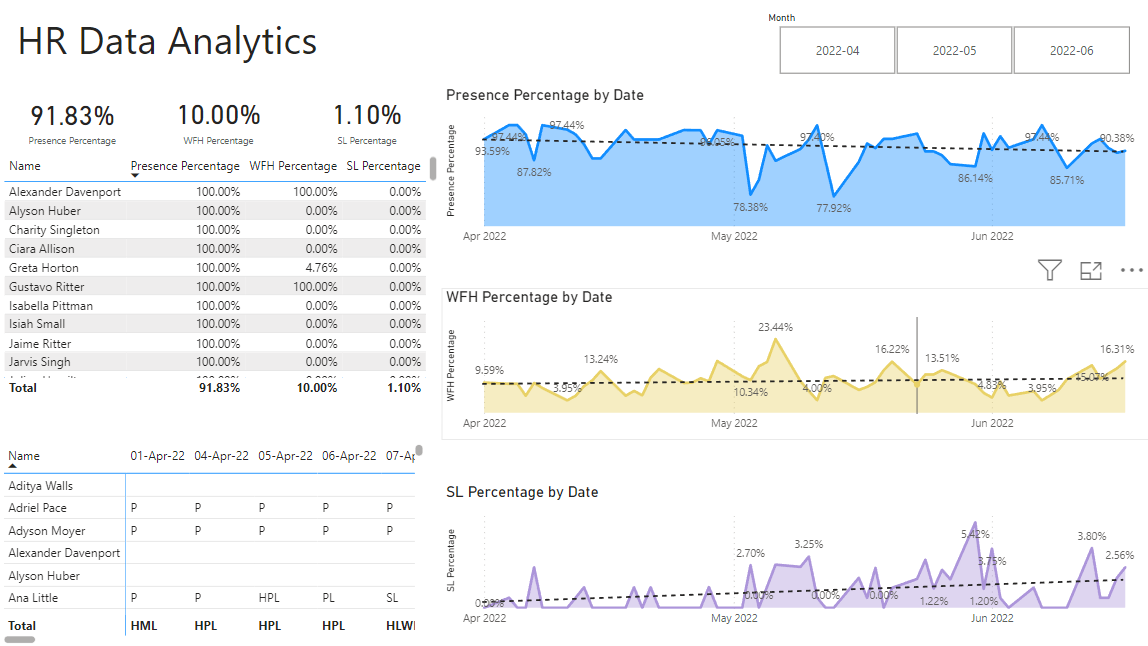

The dashboard page shown, as its layout file describes it:
{"tool":"powerbi","page":{"name":"Page 1","canvas":[1280,720],"ordinal":0},"visuals":[{"type":"card","fields":{"Values":["Measure Table.Presence Percentage"]},"box":[0,95,161.7,75],"z":0},{"type":"card","fields":{"Values":["Measure Table.WFH Percentage"]},"box":[161.7,95,163.3,73.3],"z":1000},{"type":"card","fields":{"Values":["Measure Table.SL Percentage"]},"box":[325,95,166.7,73.3],"z":2000},{"type":"tableEx","fields":{"Values":["Final Data.Name","Measure Table.Presence Percentage","Measure Table.WFH Percentage","Measure Table.SL Percentage"]},"box":[0,168.3,491.7,276.7],"z":3000},{"type":"pivotTable","fields":{"Rows":["Final Data.Name"],"Values":["Final Data.Value"],"Columns":["Final Data.Date"]},"box":[0,488.3,476.1,231.7],"z":4000},{"type":"textbox","box":[15.7,8.6,348.6,71.4],"z":5000},{"type":"slicer","fields":{"Values":["Final Data.Month"]},"box":[841.7,8.3,438.3,80],"z":6000},{"type":"areaChart","fields":{"Category":["Final Data.Date"],"Y":["Measure Table.Presence Percentage"]},"box":[491.7,95,788.3,185],"z":7000},{"type":"areaChart","fields":{"Y":["Measure Table.WFH Percentage"],"Category":["Final Data.Date"]},"box":[491.7,320,788.3,168.3],"z":8000},{"type":"areaChart","fields":{"Y":["Measure Table.SL Percentage"],"Category":["Final Data.Date"]},"box":[491.7,536.7,788.3,168.3],"z":8001}]}

Visuals, with their boxes in screenshot pixels (x1, y1, x2, y2), scaled from the page's 1280x720 canvas onto the 1148x646 screenshot:
card - Measure Table.Presence Percentage: 0,85,145,153
card - Measure Table.WFH Percentage: 145,85,291,151
card - Measure Table.SL Percentage: 291,85,441,151
tableEx - Final Data.Name x Measure Table.Presence Percentage: 0,151,441,399
pivotTable - Final Data.Name x Final Data.Value: 0,438,427,645
textbox: 14,8,327,72
slicer - Final Data.Month: 755,7,1147,79
areaChart - Final Data.Date x Measure Table.Presence Percentage: 441,85,1147,251
areaChart - Measure Table.WFH Percentage x Final Data.Date: 441,287,1147,438
areaChart - Measure Table.SL Percentage x Final Data.Date: 441,482,1147,633
